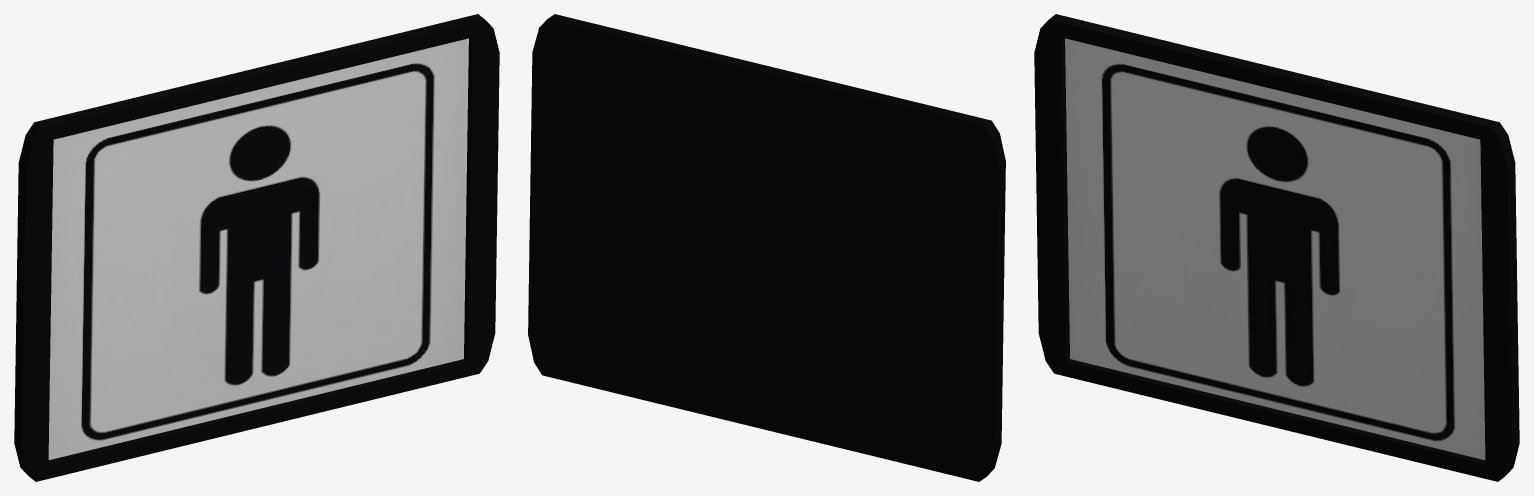
Rendered from poster_baño_hombre.fbx.
3 renders of one model, left to right at view 1: azimuth 30°, elevation 25°; view 2: azimuth 150°, elevation 25°; view 3: azimuth 330°, elevation 25°, orthographic.
Parts seen in each view (by area): view 1: poster:Mesh; view 2: poster:Mesh; view 3: poster:Mesh.
Boxes of the visible parts, bbox=[...] form: poster:Mesh: bbox=[14, 14, 499, 481]; poster:Mesh: bbox=[528, 14, 1005, 481]; poster:Mesh: bbox=[1034, 14, 1519, 481].
Bounding box in the file's own units: 2.13 × 1.54 × 0.1.
Materials: 2 (1 with a texture image).
